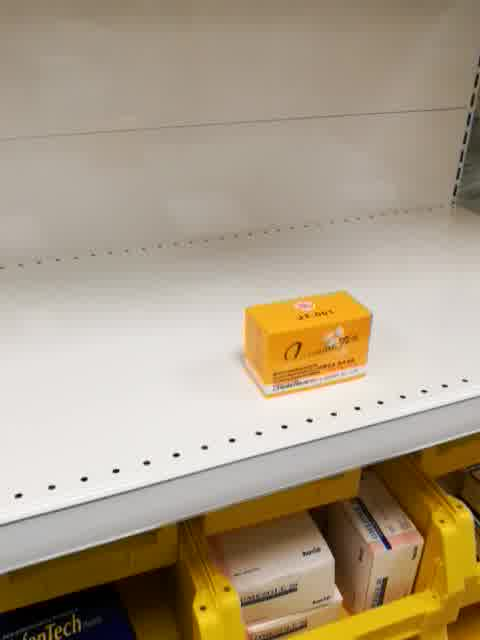jasminetea: (241, 287, 377, 403)
